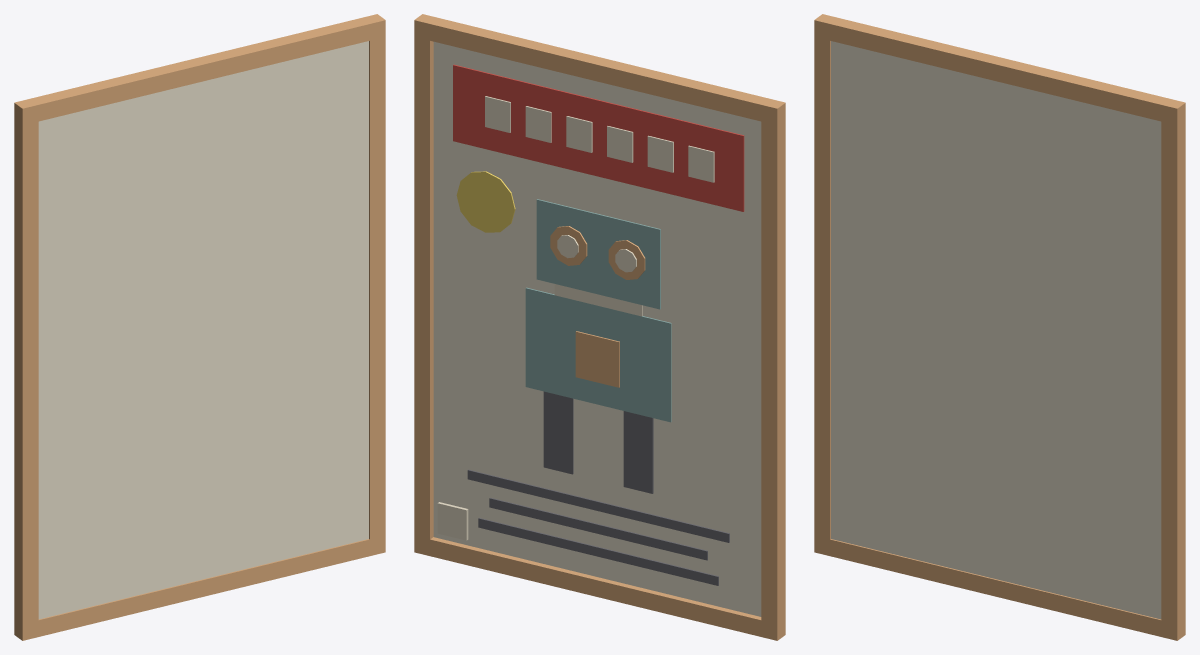
File: poster.glb
3 renders of one model, left to right at view 1: azimuth 30°, elevation 25°; view 2: azimuth 150°, elevation 25°; view 3: azimuth 330°, elevation 25°, orthographic.
Visible parts, largest first — view 1: Poster; view 2: Poster; view 3: Poster.
Boxes of the visible parts, x1=… form: Poster: x1=14, y1=14, x2=385, y2=640; Poster: x1=414, y1=14, x2=785, y2=640; Poster: x1=814, y1=14, x2=1185, y2=640.
Bounding box in the file's own units: 0.5 × 0.7 × 0.02.
